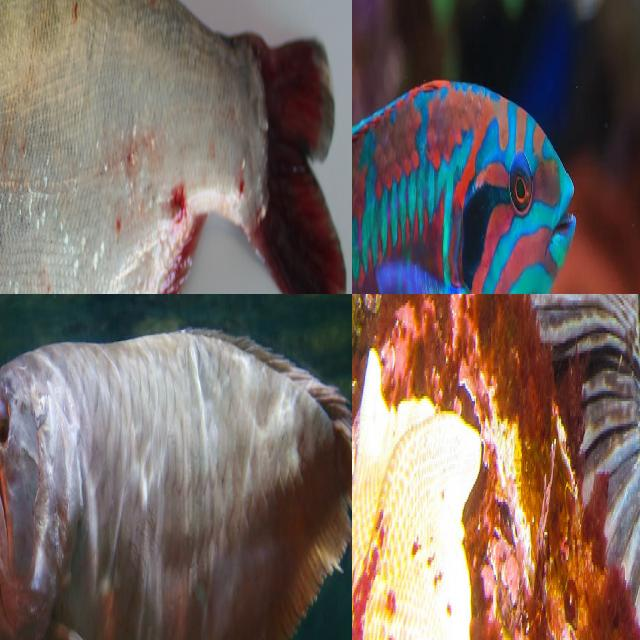fish: (0, 294, 352, 640), (0, 0, 352, 294), (352, 294, 640, 640), (352, 0, 577, 294)
